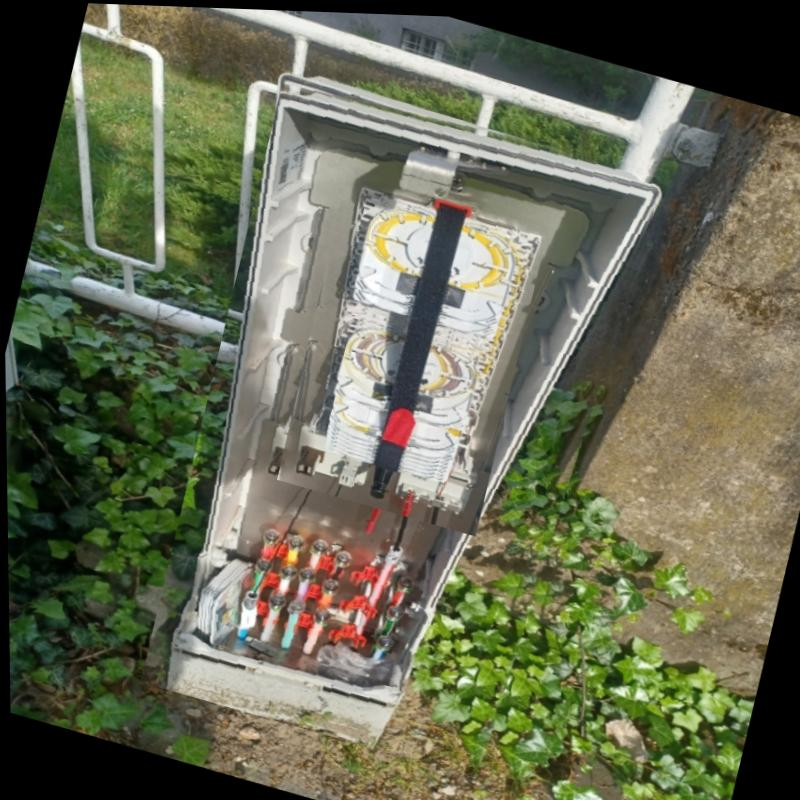NT-Gehause: (169, 85, 658, 747)
Spleiskassetten: (269, 164, 552, 534)
